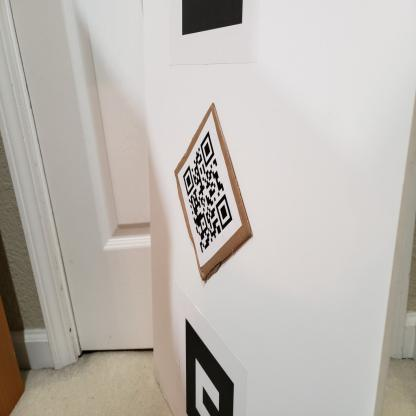qr: (178, 127, 240, 258)
